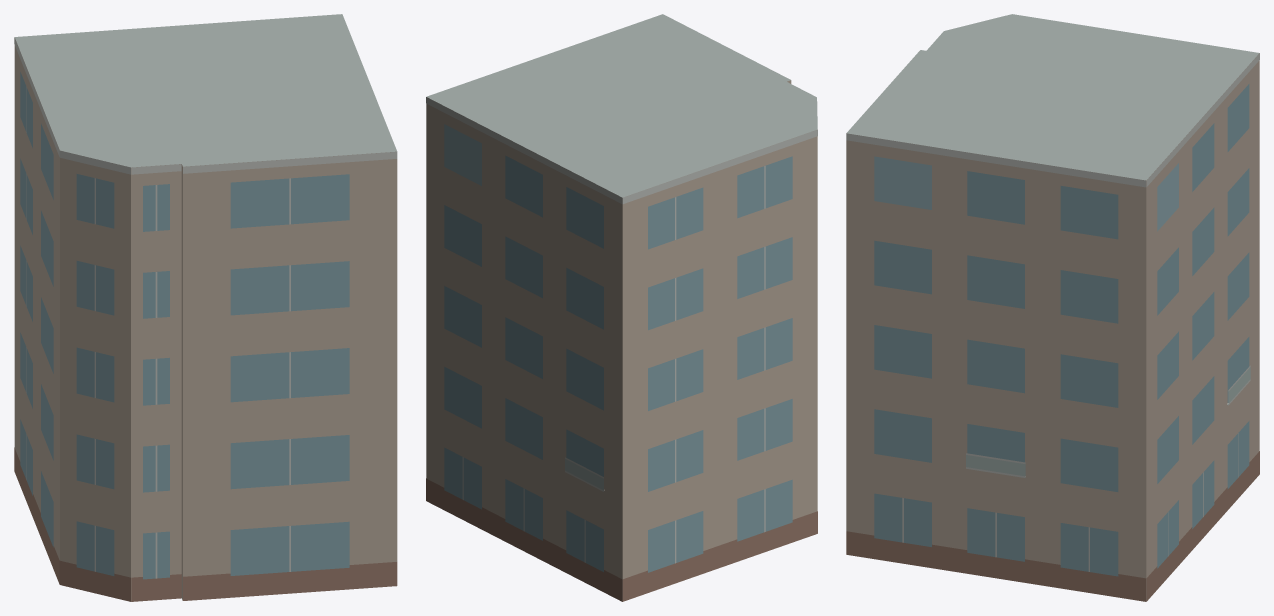
Rendered from survey-upis-32878257.glb.
The picture shows the model from 3 angles, left to right: view 1: azimuth 30°, elevation 25°; view 2: azimuth 150°, elevation 25°; view 3: azimuth 270°, elevation 25°; orthographic projection. The views are drawn at different scales.
Visible parts, largest first — view 1: survey-upis-32878257.tmp; view 2: survey-upis-32878257.tmp; view 3: survey-upis-32878257.tmp.
Part boxes in pixels (<box>): survey-upis-32878257.tmp: <box>14,14,397,601</box>; survey-upis-32878257.tmp: <box>426,14,817,601</box>; survey-upis-32878257.tmp: <box>846,14,1259,601</box>.
Bounding box in the file's own units: 12.47 × 14.7 × 13.08.
